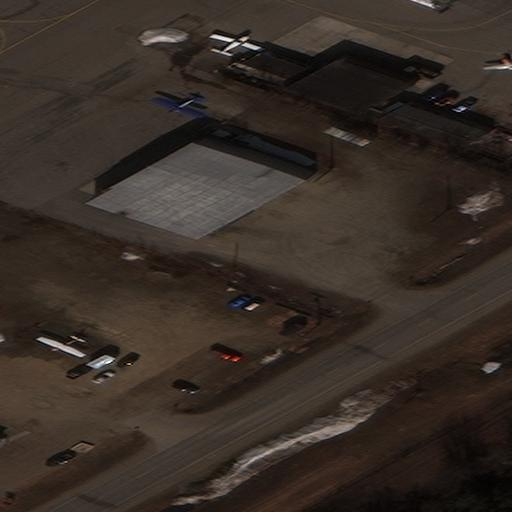Small Civil Transport: (151, 94, 201, 120), (212, 33, 261, 54), (35, 336, 80, 358), (482, 53, 512, 75)
